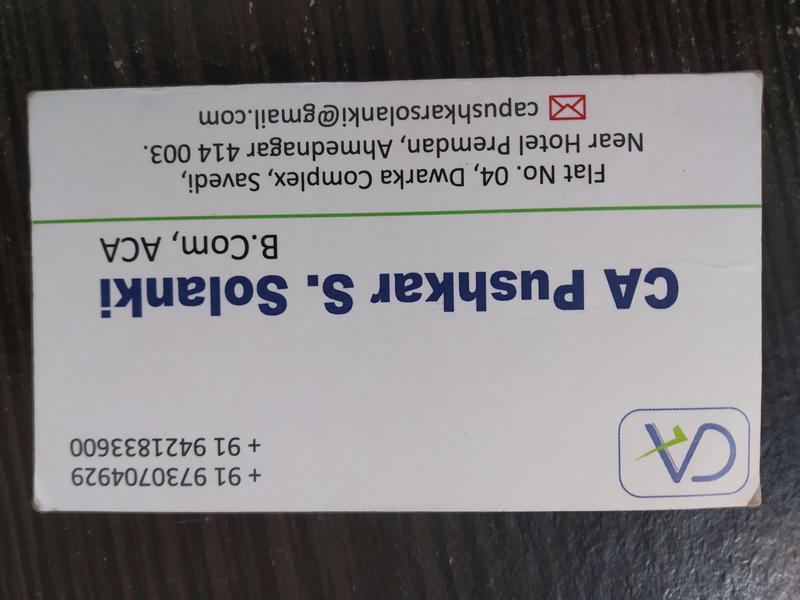card: (28, 78, 765, 512)
